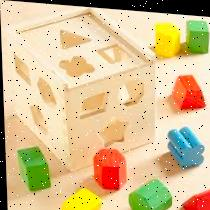cube: (6, 0, 156, 173)
